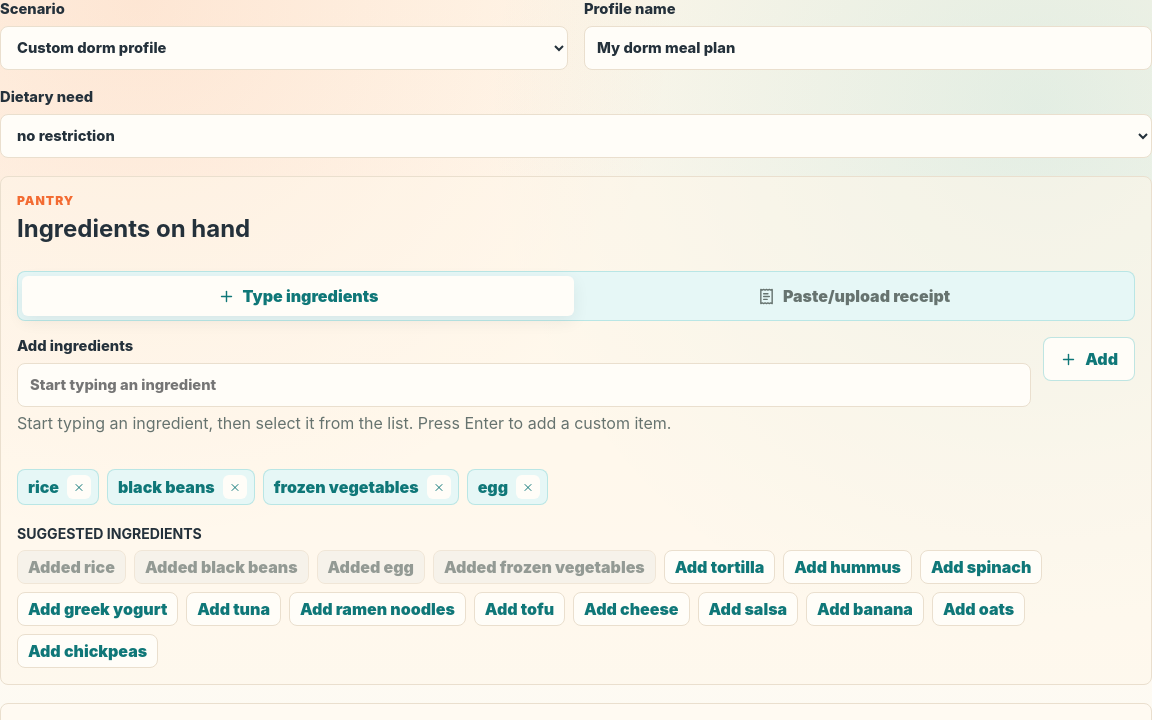
Test: PreferenceForm › populates fields from expanded scenario presets and exposes wider ranges
The image size is (1152, 720).
Select "Big grocery trip / stocked dorm" in the dropdown labelled "Scenario" at (284, 48), box [0, 26, 568, 70]
(page scrolled)
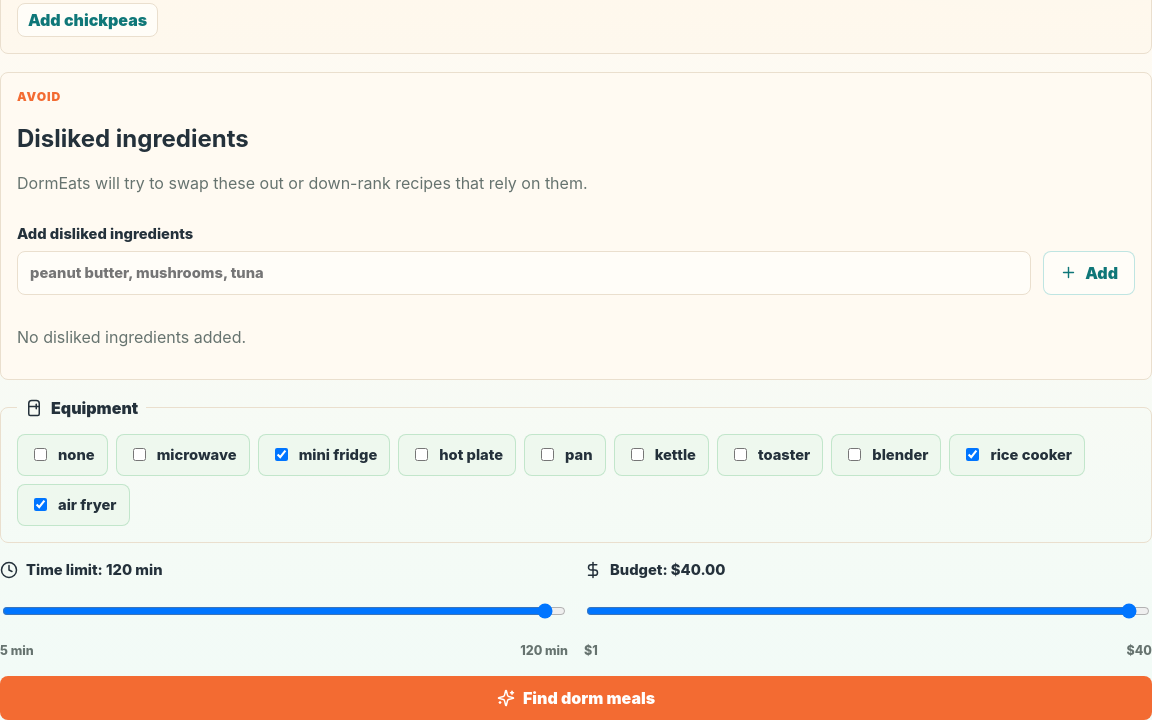
Expected: the text "Time limit: 120 min" is shown, [0, 561, 162, 579]
Expected: the text "Budget: $40.00" is shown, [584, 561, 726, 579]
Expected: the checkbox labelled "rice cooker" is checked, [966, 448, 979, 461]
